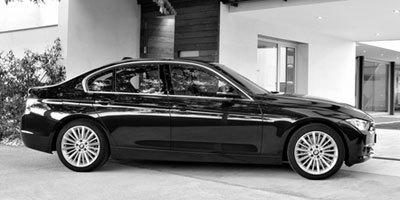car: (21, 57, 378, 180)
